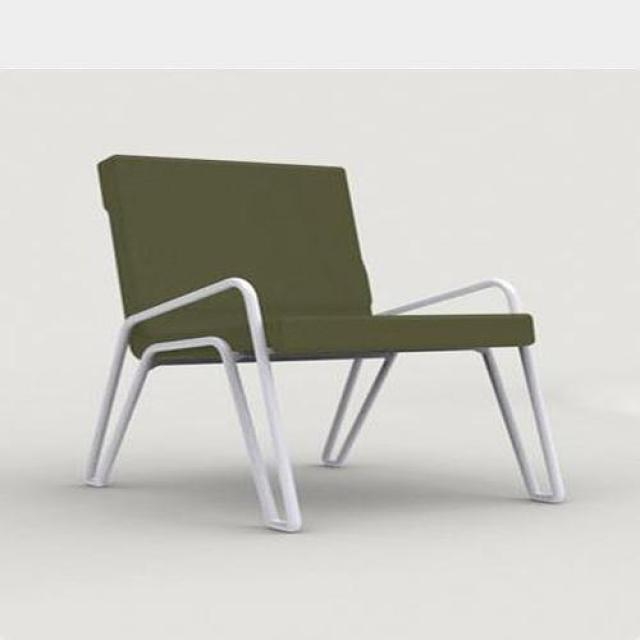chair: (87, 156, 567, 534)
